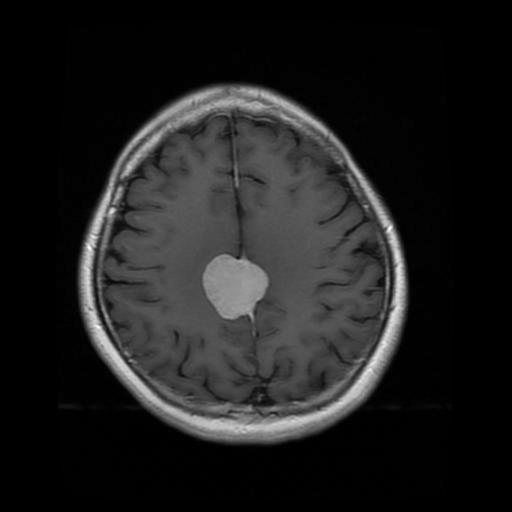Tumour-Pituitary: (194, 244, 313, 358)
